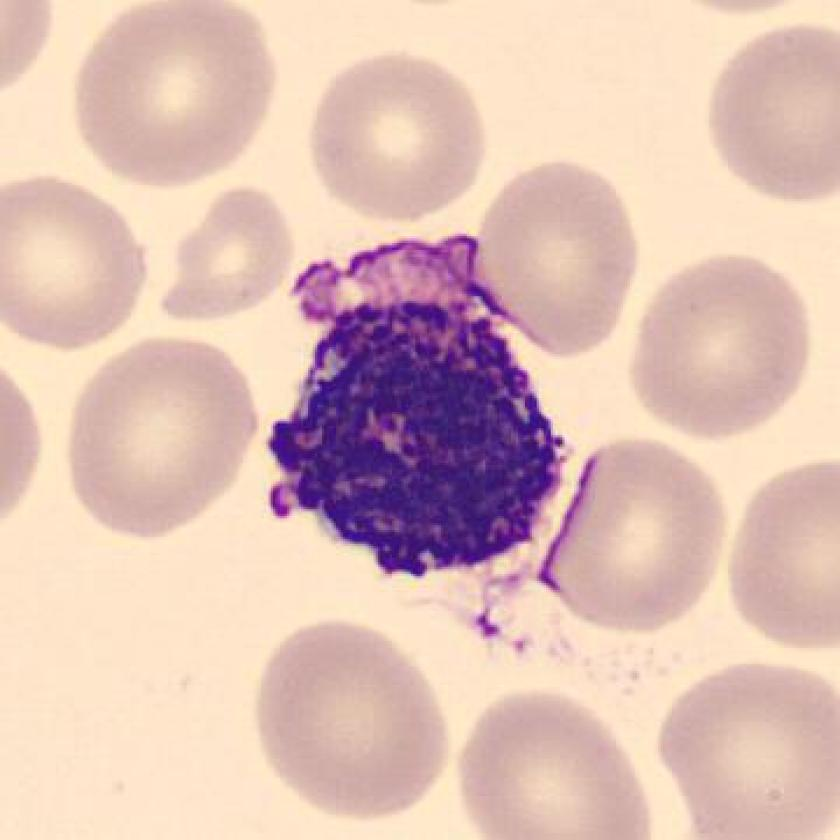basophil: (255, 265, 573, 584)
